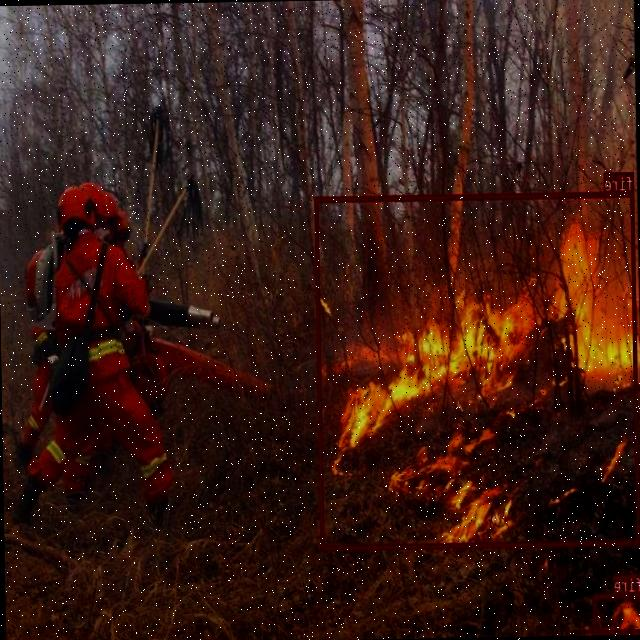fire: (314, 190, 640, 549), (594, 592, 640, 633)
